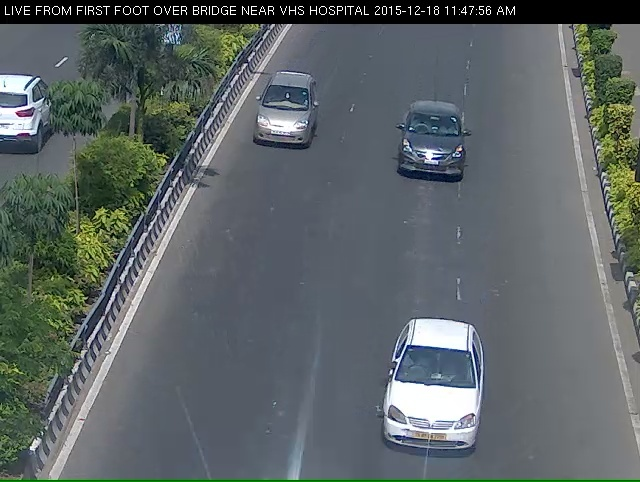Car: (379, 344, 486, 474), (397, 109, 470, 192), (253, 75, 316, 158)
